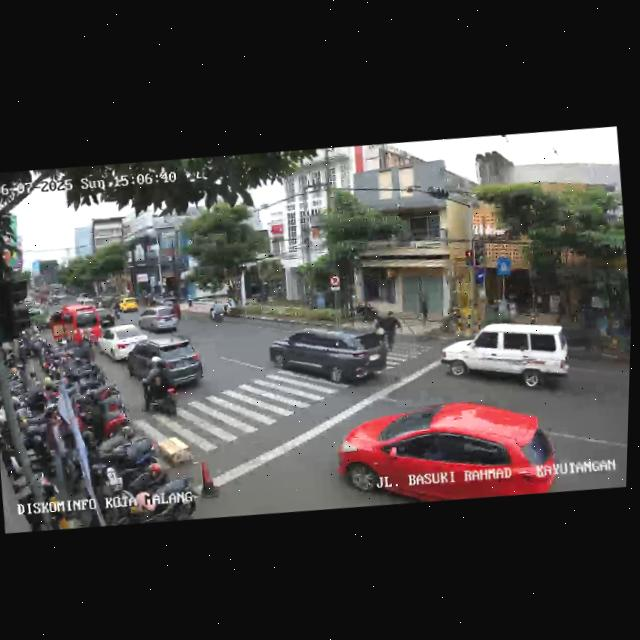car: (331, 388, 561, 513), (437, 311, 582, 402), (267, 316, 395, 398), (124, 331, 208, 396), (45, 302, 102, 351), (97, 321, 151, 364), (135, 301, 181, 337), (93, 305, 118, 327), (116, 296, 140, 316)
motorcycle: (136, 353, 181, 419), (207, 297, 227, 326), (111, 301, 124, 321)
person: (382, 310, 406, 353), (372, 315, 386, 336)
